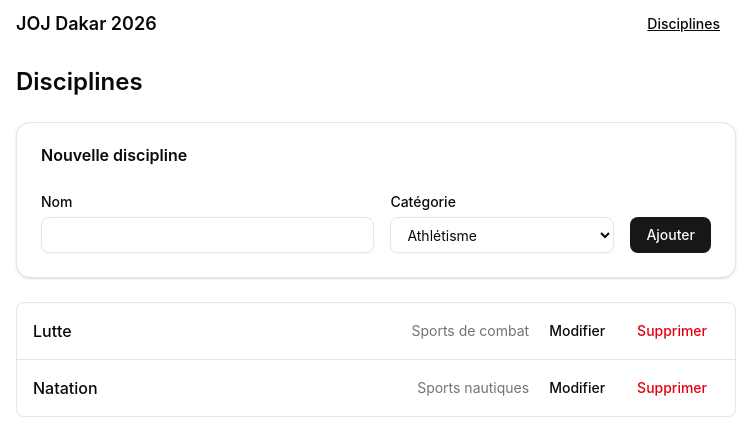
it: DisciplinesPage › AS4: shows the API error when the name is already taken
Expected: the list named "Disciplines" is shown, x1=16 y1=302 x2=736 y2=417
Step 1. Type "Lutte" into the field labelled "Nom" → (208, 235), box x1=41 y1=217 x2=374 y2=253
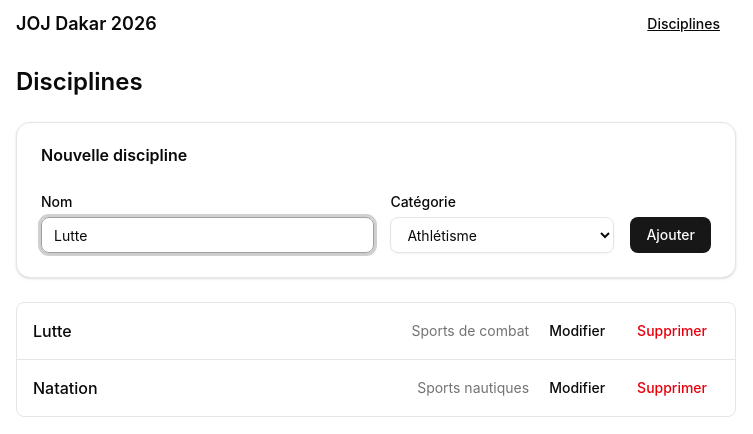
Step 2. Select "Sports de combat" in the dropdown labelled "Catégorie" → (502, 235), box x1=390 y1=217 x2=614 y2=253
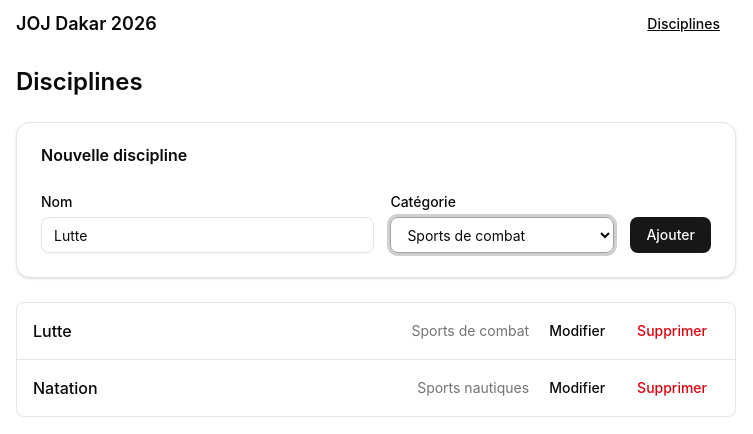
Step 3. Click the button "Ajouter" → (671, 235), box x1=630 y1=217 x2=711 y2=253
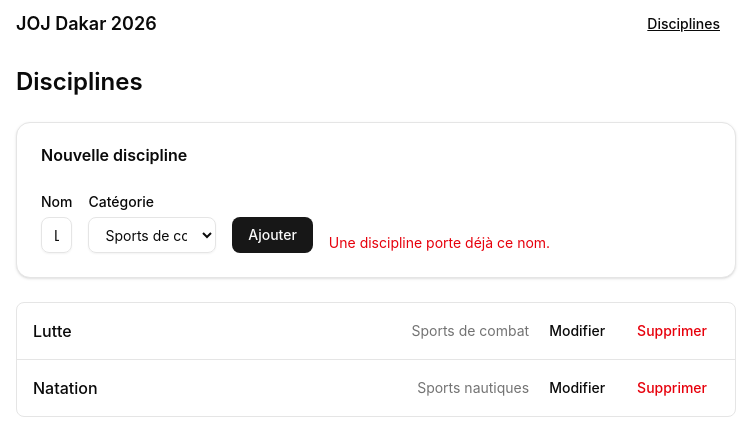
Expected: the message reads "Une discipline porte déjà ce nom.", x1=329 y1=234 x2=550 y2=251
